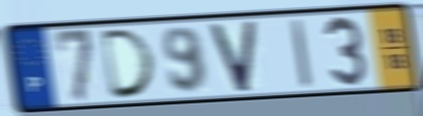3: (322, 13, 368, 89)
7: (50, 26, 95, 106)
9: (161, 24, 210, 96)
D: (99, 26, 160, 102)
I: (288, 16, 314, 90)
V: (207, 18, 259, 95)
